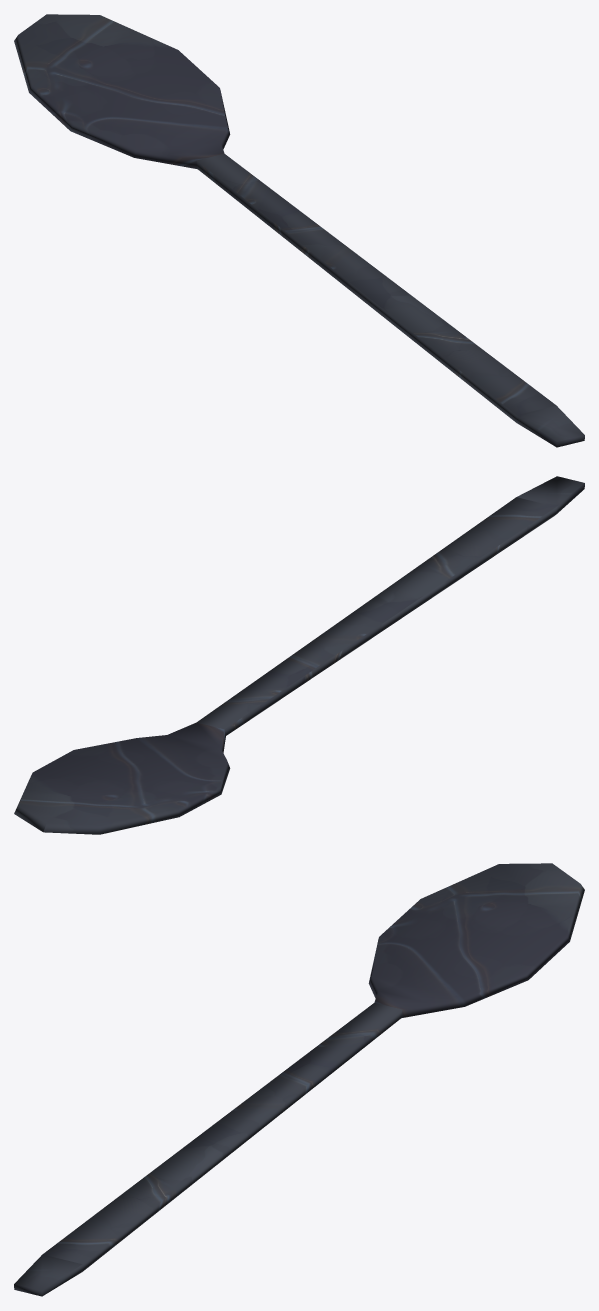
The model's file is Spoon.fbx.
3 views of the same model, one above another, from view 1: azimuth 30°, elevation 25°; view 2: azimuth 150°, elevation 25°; view 3: azimuth 330°, elevation 25° (orthographic).
Parts seen in each view (by area): view 1: Spoon; view 2: Spoon; view 3: Spoon.
Part boxes in pixels (x1,y1,x2,y2): Spoon: (14,14,584,447); Spoon: (14,476,584,834); Spoon: (14,863,584,1296).
Bounding box in the file's own units: 0.0701 × 0.0204 × 0.4238.
